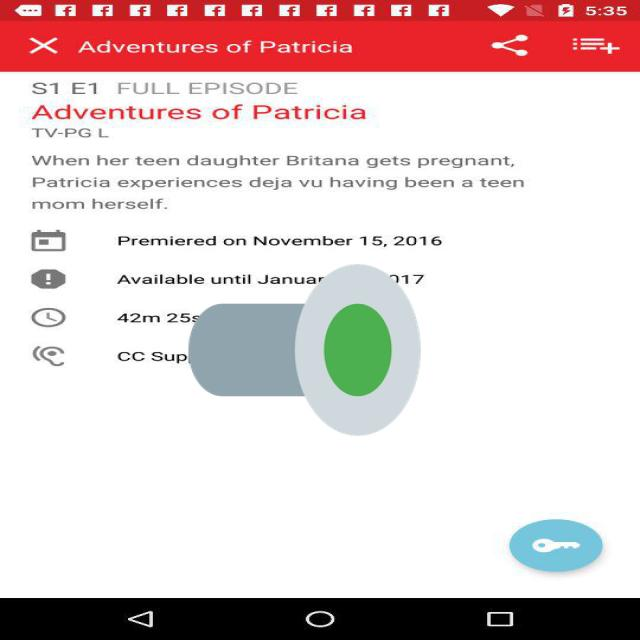social proof: (188, 191, 421, 509)
